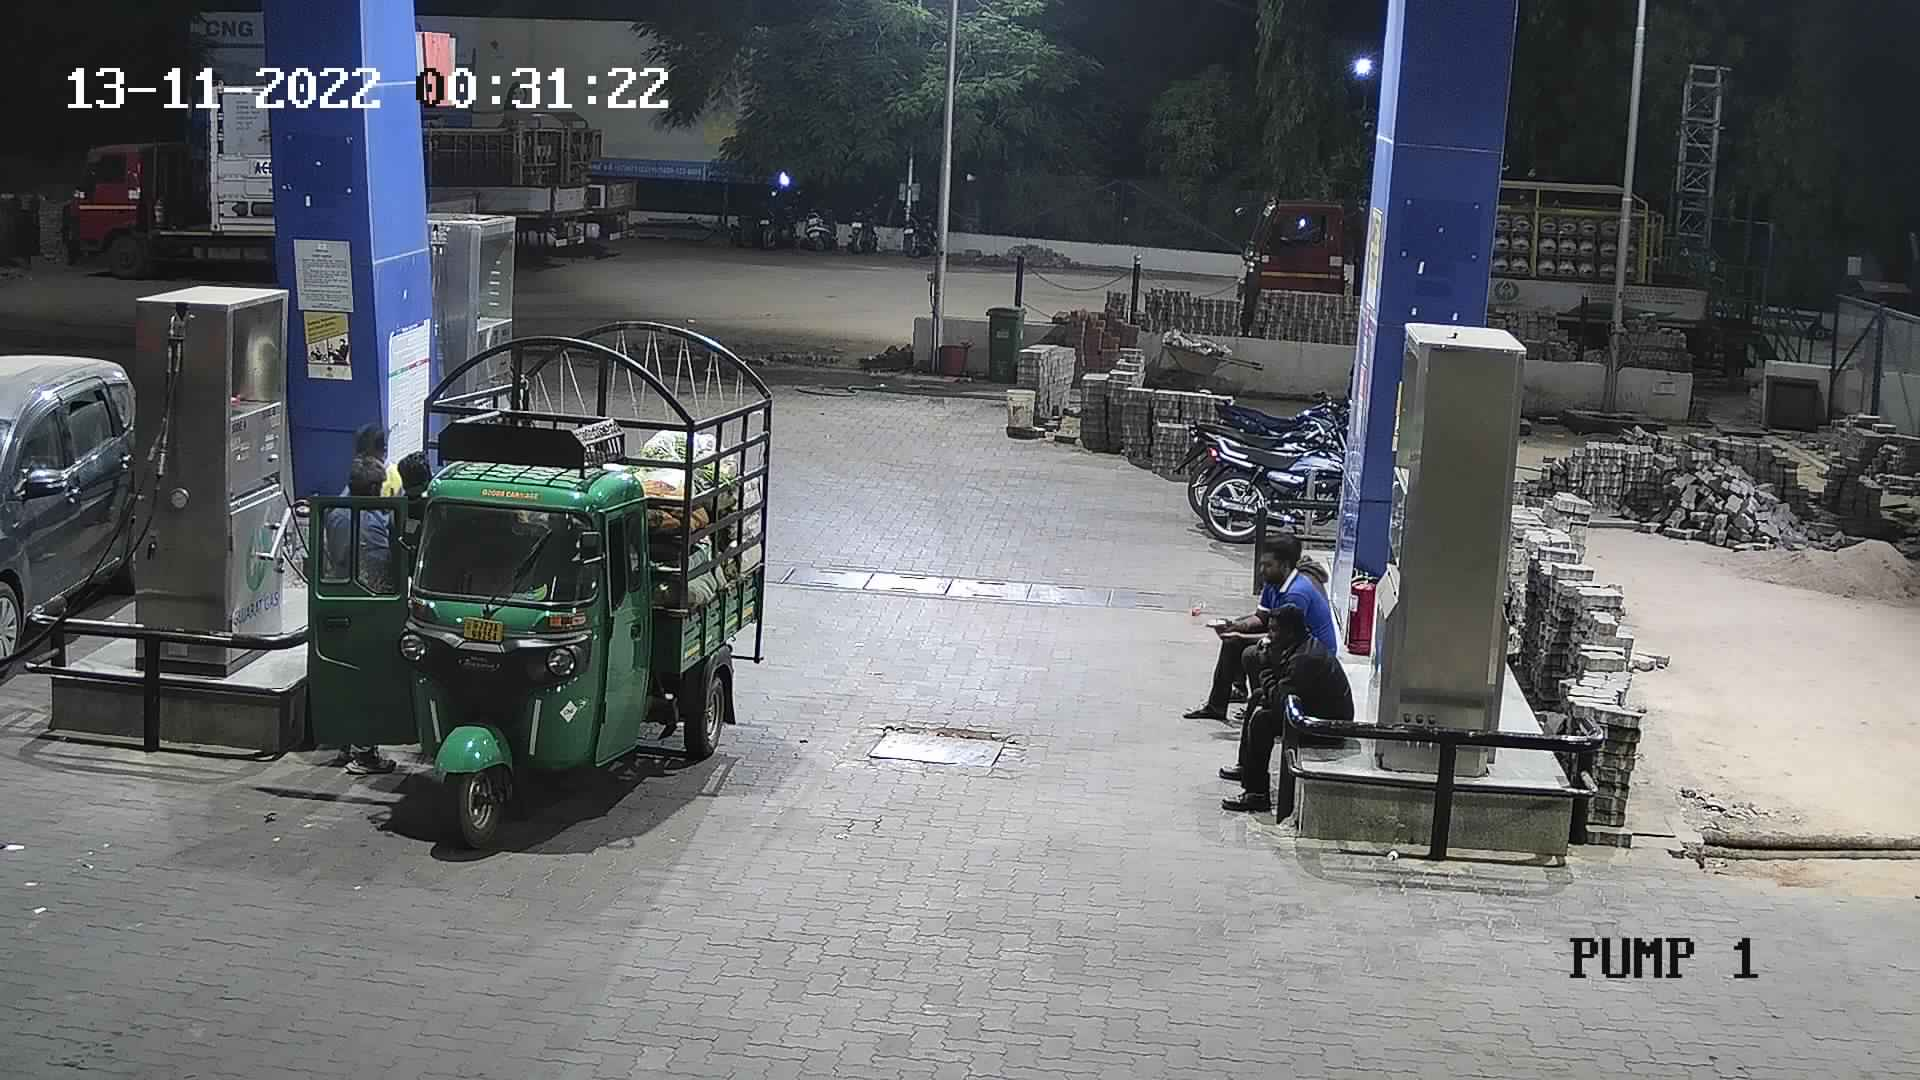Auto: (305, 314, 778, 852)
Bike: (1174, 375, 1361, 558), (887, 191, 947, 266), (741, 179, 799, 251), (800, 187, 851, 258), (843, 187, 893, 257)
Car: (0, 334, 162, 691)
HMV: (57, 71, 280, 284), (405, 76, 644, 269), (1211, 182, 1371, 345)
Others: (326, 419, 409, 513)
